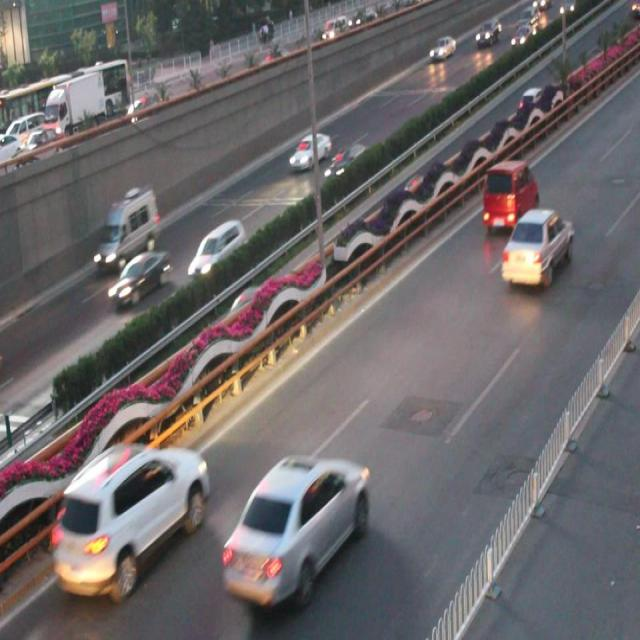car: (48, 438, 208, 599), (223, 452, 369, 606), (500, 208, 571, 286), (186, 217, 248, 281), (106, 247, 171, 308), (480, 164, 539, 231), (322, 143, 373, 184), (286, 130, 331, 172), (227, 286, 273, 318)
truck: (90, 189, 162, 267)
